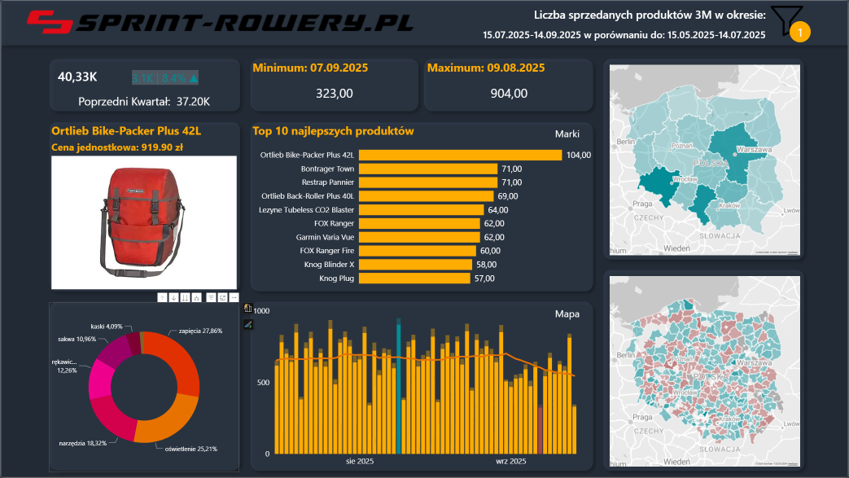

The dashboard page shown, as its layout file describes it:
{"tool":"powerbi","page":{"name":"Sales","canvas":[1600,900],"ordinal":0},"visuals":[{"type":"actionButton","title":"ShowButton","box":[1450,3,70,70],"z":0,"group":"g1"},{"type":"card","title":"Całkowita sprzedaż poprzedni okres","fields":{"Values":["_mesures.selectedLabelPast"]},"box":[90,171,360,40],"z":0,"group":"g2"},{"type":"azureMap","fields":{"Category":["dim_address.Location.powiat"]},"box":[1145,515,370,370],"z":0},{"type":"shape","title":"FilterCount","box":[1490,38,40,40],"z":1000,"group":"g1"},{"type":"cardVisual","fields":{"Data":["_mesures.selectedLimitDate"]},"box":[90,111,360,60],"z":1000,"group":"g2"},{"type":"lineStackedColumnComboChart","fields":{"Category":["dim_date.Date"],"Y":["_mesures.selectedLimitDate"],"Y2":["_mesures.selectedMA_limitDate"]},"box":[470,570,650,320],"z":1000},{"type":"actionButton","title":"mapButton","box":[1020,570,100,40],"z":3000},{"type":"donutChart","fields":{"Category":["dim_products.Product.Category","dim_products.Product.Subcategory","dim_products.Product.Model"],"Y":["_mesures.selectedLimitDate"]},"box":[90,570,360,320],"z":5000},{"type":"azureMap","fields":{"Category":["dim_address.Location.wojewodztwo"]},"box":[1145,116,370,370],"z":6000},{"type":"barChart","title":"Top 10 najlepszych marek","fields":{"Category":["dim_products.Brand"],"Y":["_mesures.selectedLimitDate"]},"box":[470,230,650,320],"z":7000},{"type":"actionButton","title":"productButton","box":[1020,230,100,40],"z":10000},{"type":"cardVisual","fields":{"Data":["_Mesures.bestProduct"]},"box":[90,230,360,320],"z":11000},{"type":"card","fields":{"Values":["_mesures.selectedLimitDate_min"]},"box":[470,111,320,100],"z":12000},{"type":"card","fields":{"Values":["_mesures.selectedLimitDate_max"]},"box":[800,111,320,100],"z":13000},{"type":"cardVisual","fields":{"Data":["_mesures.selectedTitle","_mesures.dateRangeTitle"]},"box":[850,3,600,80],"z":14000},{"type":"group","id":"g1","title":"FilterButton","box":[1450,3,80,75],"z":15000},{"type":"group","id":"g2","title":"KPI","box":[90,111,360,100],"z":17000}]}

Visuals, with their boxes in screenshot pixels (x1, y1, x2, y2), scaled from the page's 1600x900 canvas onto the 849x478 screenshot:
"ShowButton" actionButton: (left=769, top=2, right=807, bottom=39)
"Całkowita sprzedaż poprzedni okres" card: (left=48, top=91, right=239, bottom=112)
azureMap - dim_address.Location.powiat: (left=608, top=274, right=804, bottom=470)
"FilterCount" shape: (left=791, top=20, right=812, bottom=41)
cardVisual - _mesures.selectedLimitDate: (left=48, top=59, right=239, bottom=91)
lineStackedColumnComboChart - dim_date.Date x _mesures.selectedLimitDate: (left=249, top=303, right=594, bottom=473)
"mapButton" actionButton: (left=541, top=303, right=594, bottom=324)
donutChart - dim_products.Product.Category x dim_products.Product.Subcategory: (left=48, top=303, right=239, bottom=473)
azureMap - dim_address.Location.wojewodztwo: (left=608, top=62, right=804, bottom=258)
"Top 10 najlepszych marek" barChart: (left=249, top=122, right=594, bottom=292)
"productButton" actionButton: (left=541, top=122, right=594, bottom=143)
cardVisual - _Mesures.bestProduct: (left=48, top=122, right=239, bottom=292)
card - _mesures.selectedLimitDate_min: (left=249, top=59, right=419, bottom=112)
card - _mesures.selectedLimitDate_max: (left=424, top=59, right=594, bottom=112)
cardVisual - _mesures.selectedTitle x _mesures.dateRangeTitle: (left=451, top=2, right=769, bottom=44)
"FilterButton" group: (left=769, top=2, right=812, bottom=41)
"KPI" group: (left=48, top=59, right=239, bottom=112)
